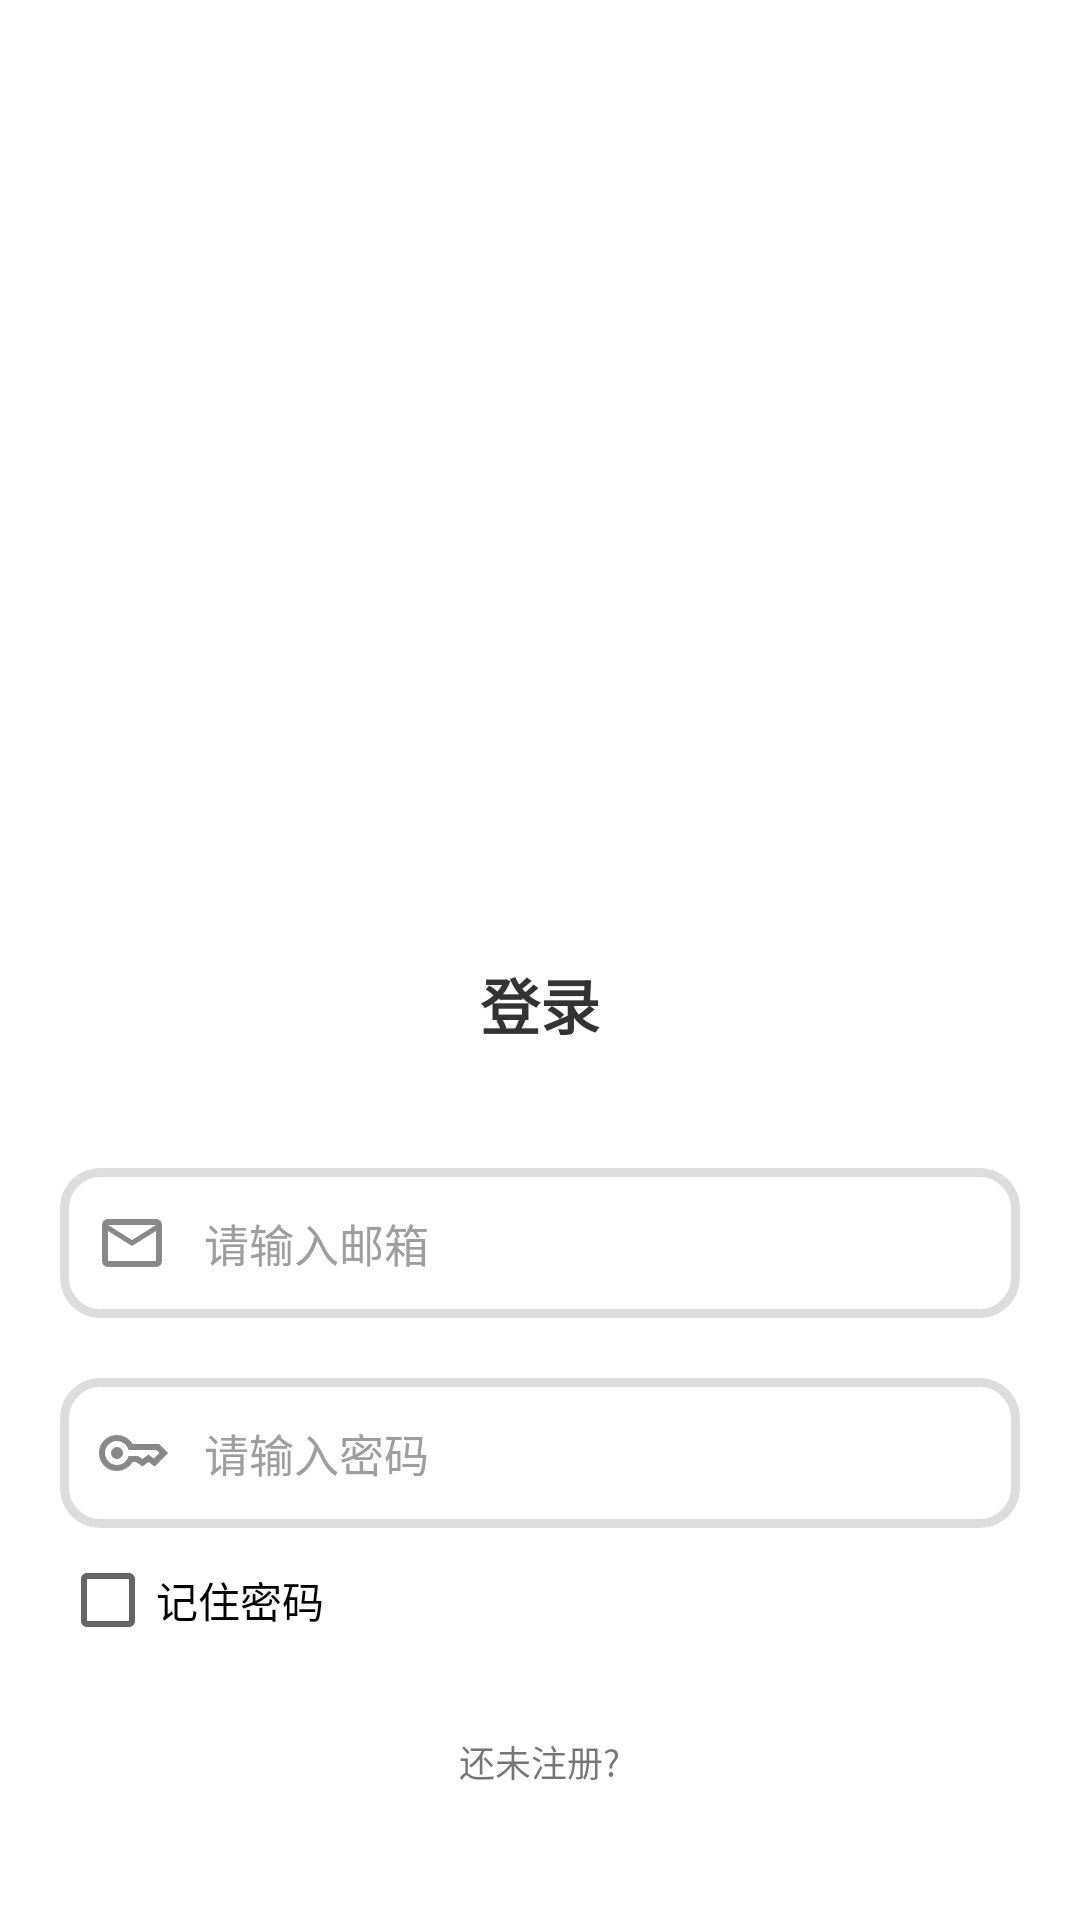

Locate icon controls on the screen. Image size 1080 × 1920, boxes as (x1=x1, y1=y1, x2=x2, y2=y2).
email: (x1=102, y1=1219, x2=162, y2=1267)
password: (x1=99, y1=1435, x2=168, y2=1471)
